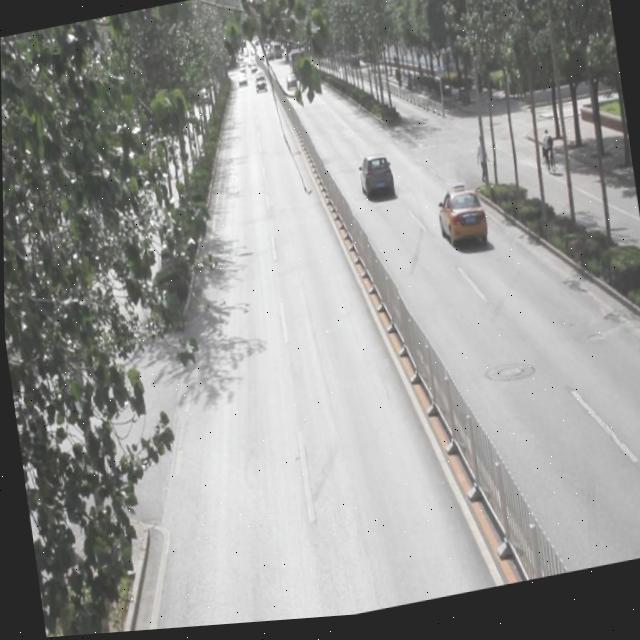car: (433, 187, 488, 260), (355, 156, 395, 210)
